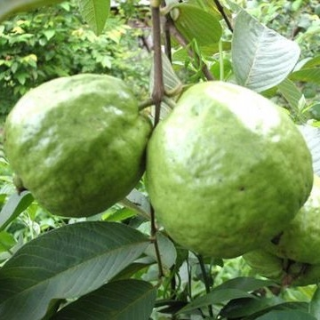oi: (140, 76, 318, 264), (1, 73, 153, 224)
